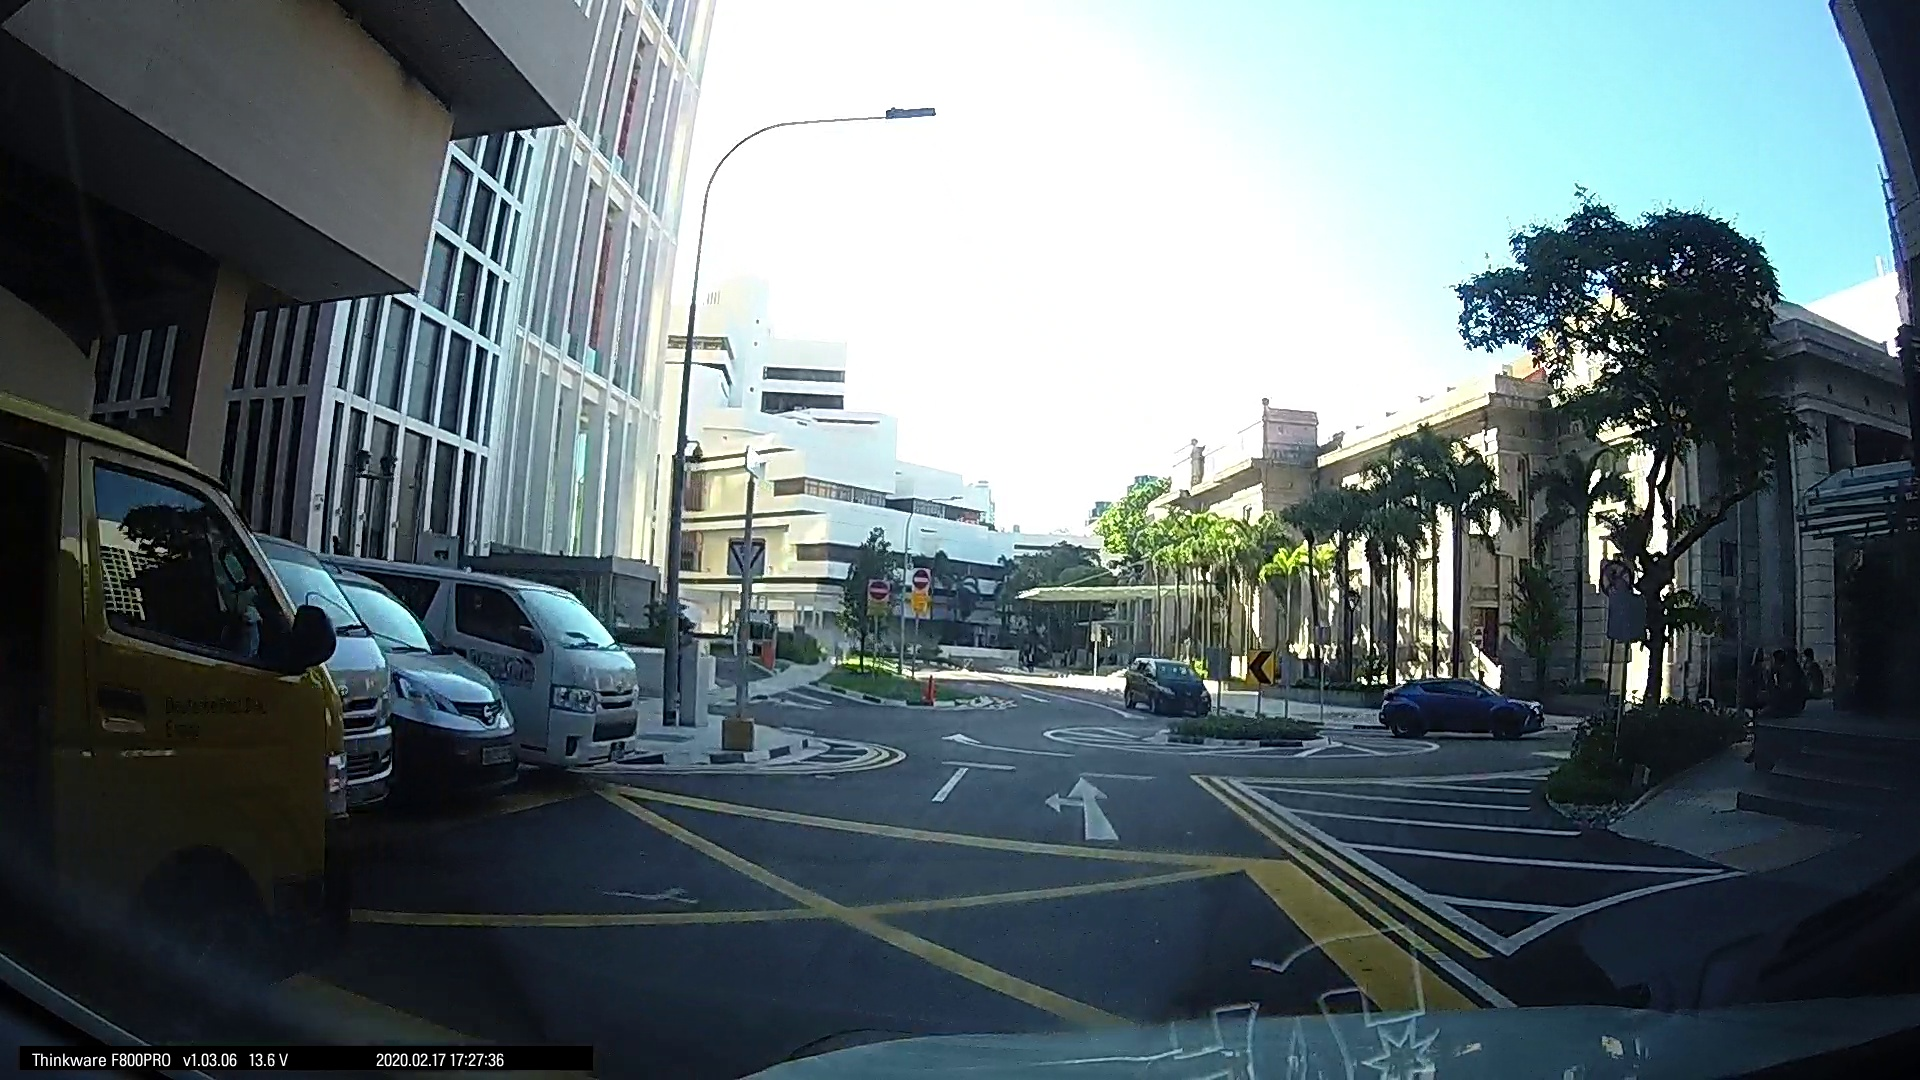Light Vehicle: (28, 384, 409, 1002), (353, 556, 651, 775), (1367, 670, 1540, 738)
